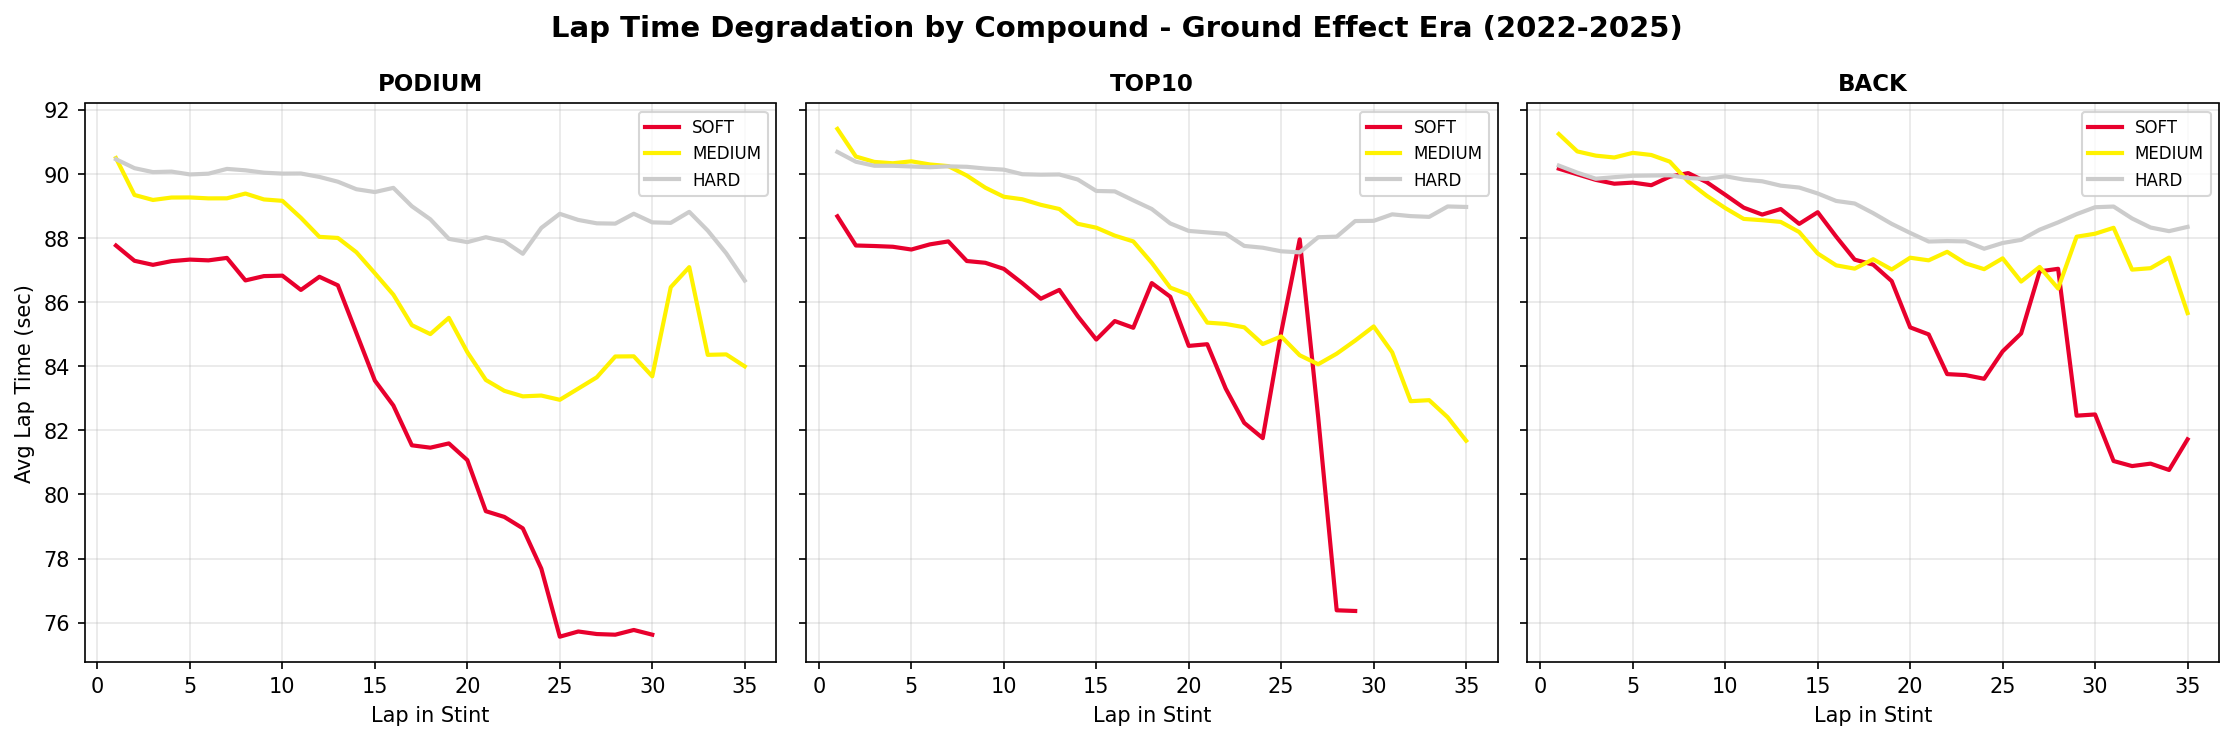

This screenshot's page, from the dashboard's own definition file:
{"tool":"tableau","page":{"name":"Dashboard 1","canvas":[1000,800],"ordinal":0},"visuals":[{"type":"worksheet","title":"Sheet 1","mark":"Line","rows":["lap_time_sec"],"cols":["lap_in_stint"],"box":[8,8,492,487]},{"type":"worksheet","title":"Sheet 2","mark":"Line","rows":["lap_time_sec"],"cols":["lap_in_stint"],"box":[500,8,492,487]},{"type":"legend","title":"Sheet 1","param":"[federated.10u7zw3011489f14gdsen1pl3dwv].[none:Compound:nk]","box":[878,349,102,79]},{"type":"legend","title":"Sheet 5","param":"[federated.0adu2bb1r27wwh1ehxpaf11xftja].[avg:lap_time_degradation_slope:qk]","box":[857,494,133,58]},{"type":"worksheet","title":"Sheet 5","mark":"Automatic","rows":["compound"],"cols":["position_group"],"box":[8,495,492,297]},{"type":"worksheet","title":"Sheet 6","mark":"Automatic","rows":["compound"],"cols":["Driver"],"box":[500,495,492,297]}]}

Visuals, with their boxes on the page's 1000x800 design canvas (x1, y1, x2, y2). These are canvas units, not pixel positions in the 2234x740 screenshot, which may show the page scaled, cropped or inside an application window:
"Sheet 1" worksheet (Line marks): bbox=[8, 8, 500, 495]
"Sheet 2" worksheet (Line marks): bbox=[500, 8, 992, 495]
"Sheet 1" legend: bbox=[878, 349, 980, 428]
"Sheet 5" legend: bbox=[857, 494, 990, 552]
"Sheet 5" worksheet: bbox=[8, 495, 500, 792]
"Sheet 6" worksheet: bbox=[500, 495, 992, 792]
